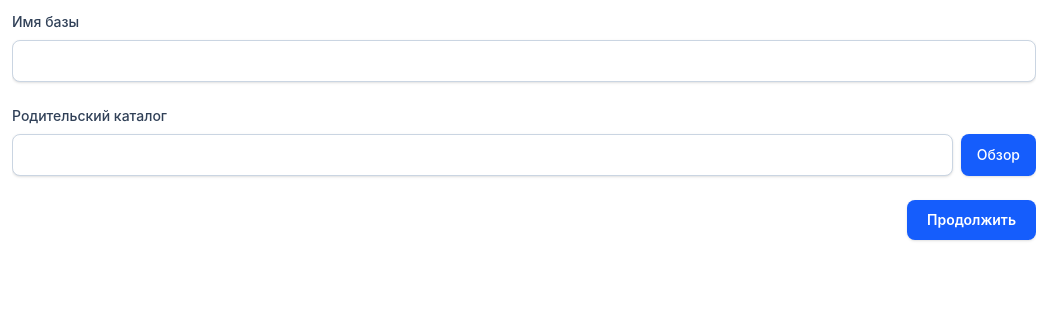
Test: BaseForm › validates an empty create draft and focuses the name field
Click the button "Продолжить" at x=972, y=220, box 907,200 -> 1036,240
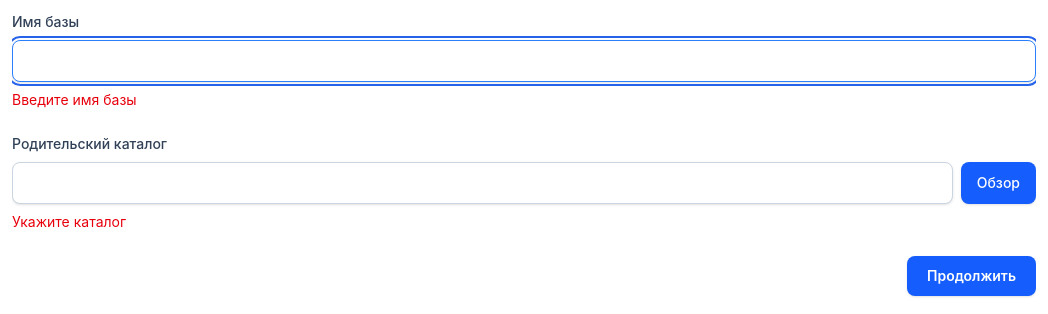
Expected: the text "Введите имя базы" is shown, 12,91 -> 137,108
Expected: the text "Укажите каталог" is shown, 12,213 -> 126,230
